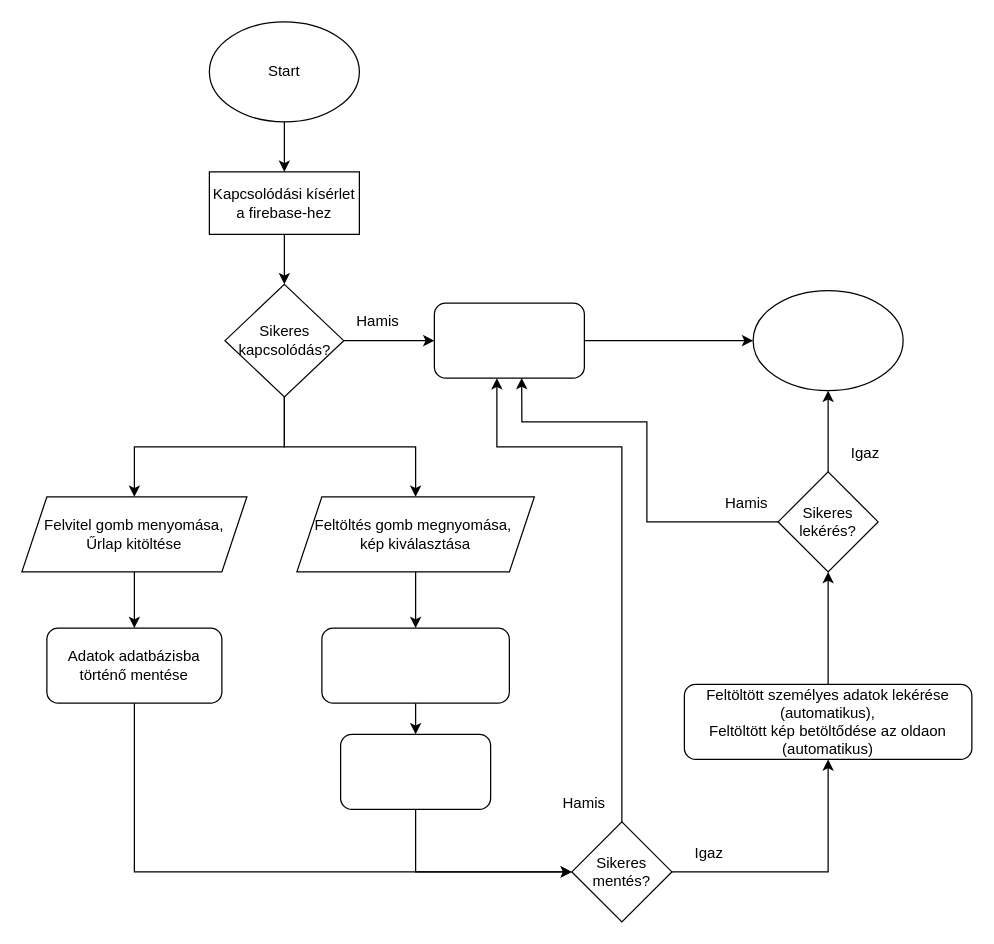
Some shapes in this 994 by 944 pixel diagram are drawn without their labels. Here are the shapes that lost their labels. From the top down, the centre of each, then its label:
At point 508,340: "Hibaüzenet kiadása".
At point 827,340: "End".
At point 415,665: "Kép firebase storage-ba történő mentése".
At point 415,771: "Kép URL címének mentése az adatbázisba".
